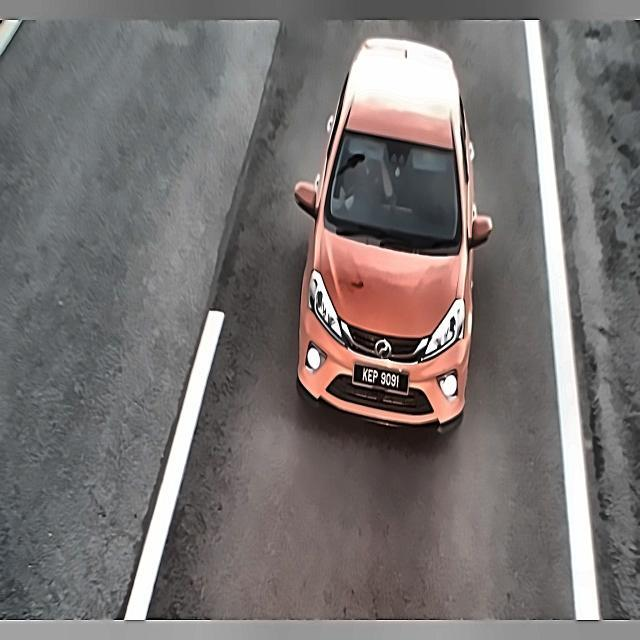car: (349, 358, 415, 398)
